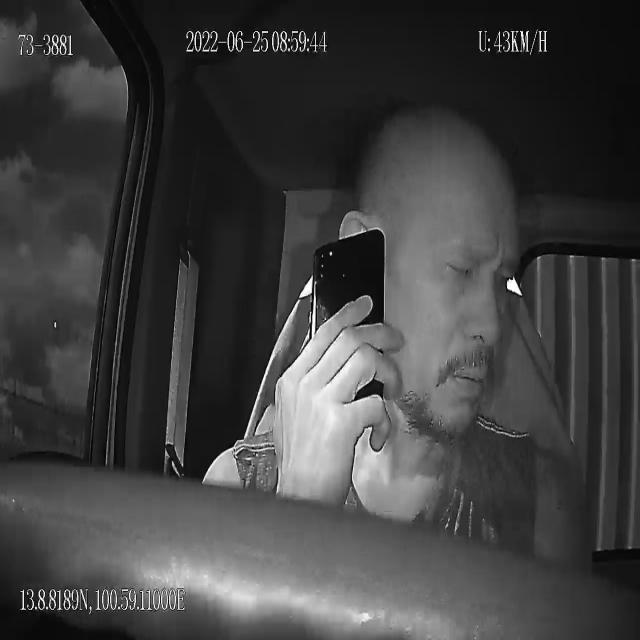phone: (310, 226, 388, 432)
